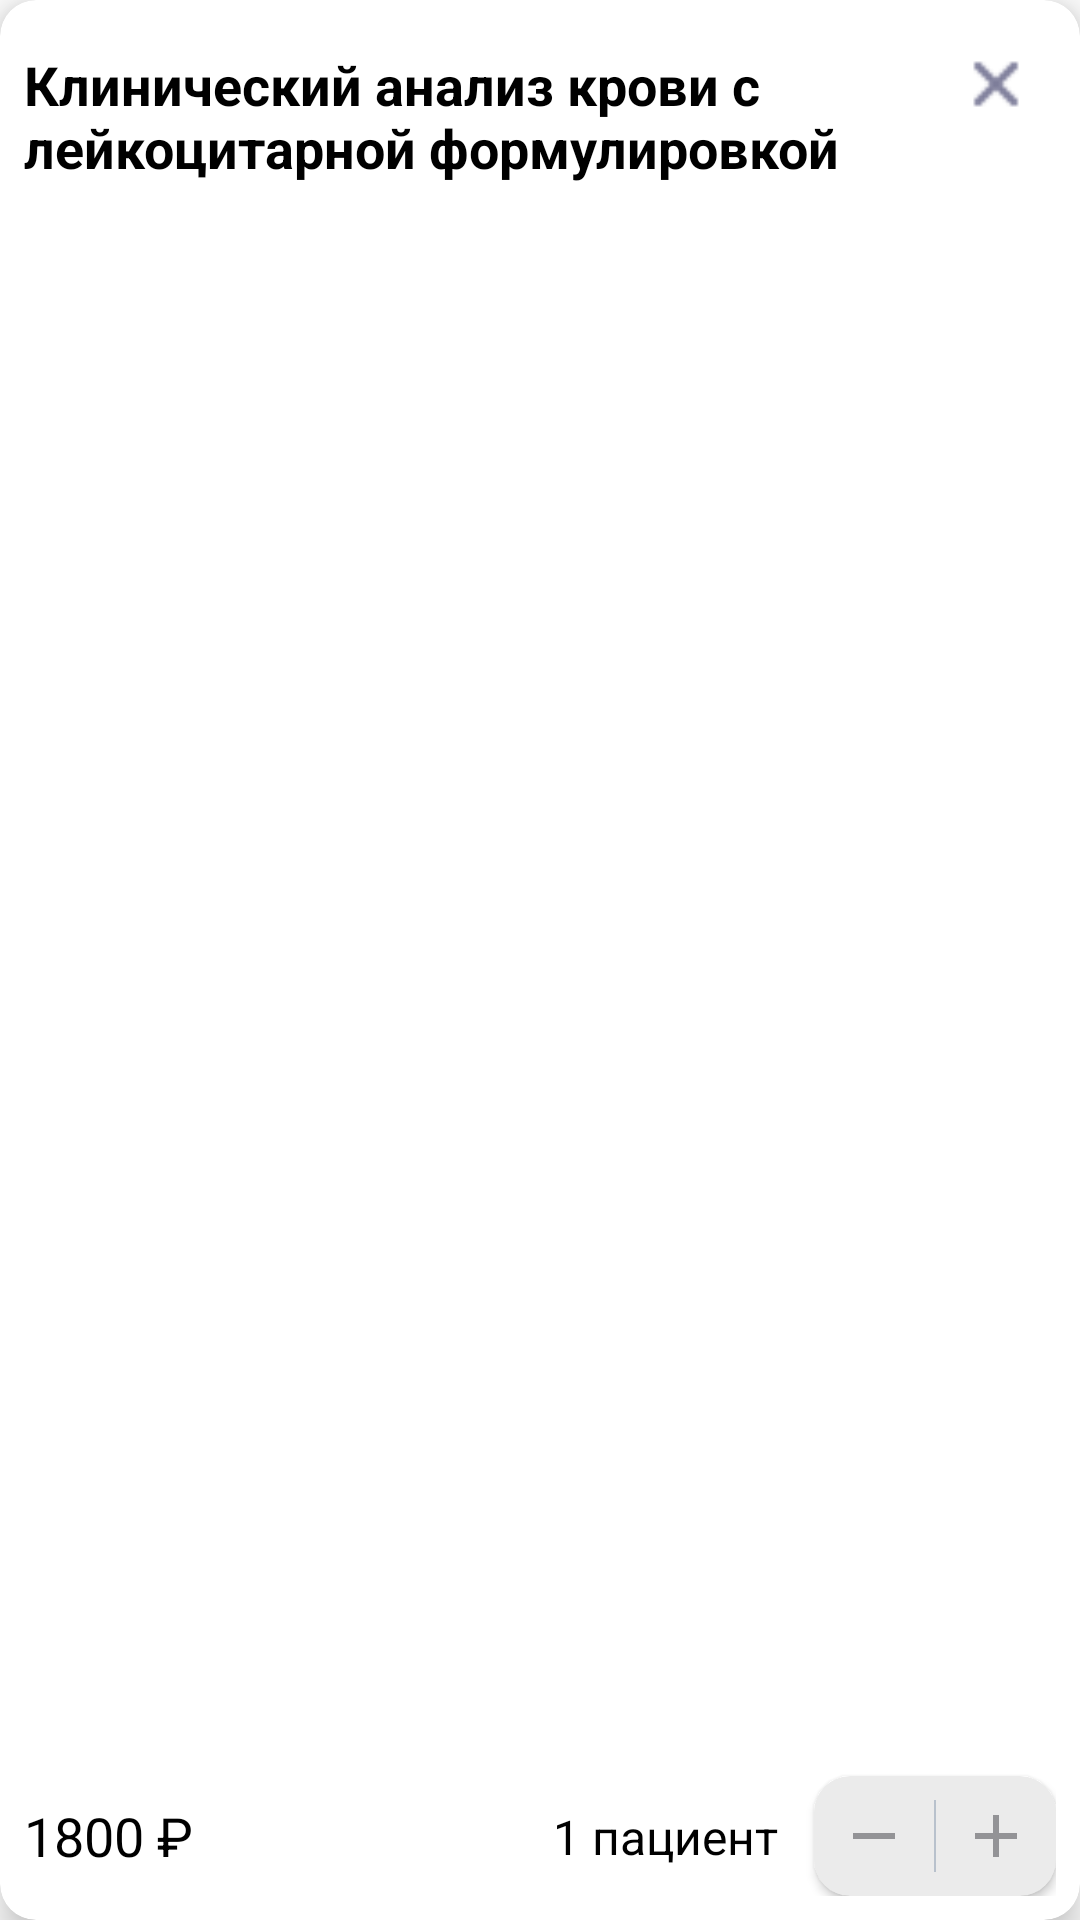

Icons on this 1080 x 1920 Android screen, each with its box as (x1, y1, x2, y2):
add patient: (936, 1776, 1056, 1896)
remove patient: (814, 1776, 934, 1896)
